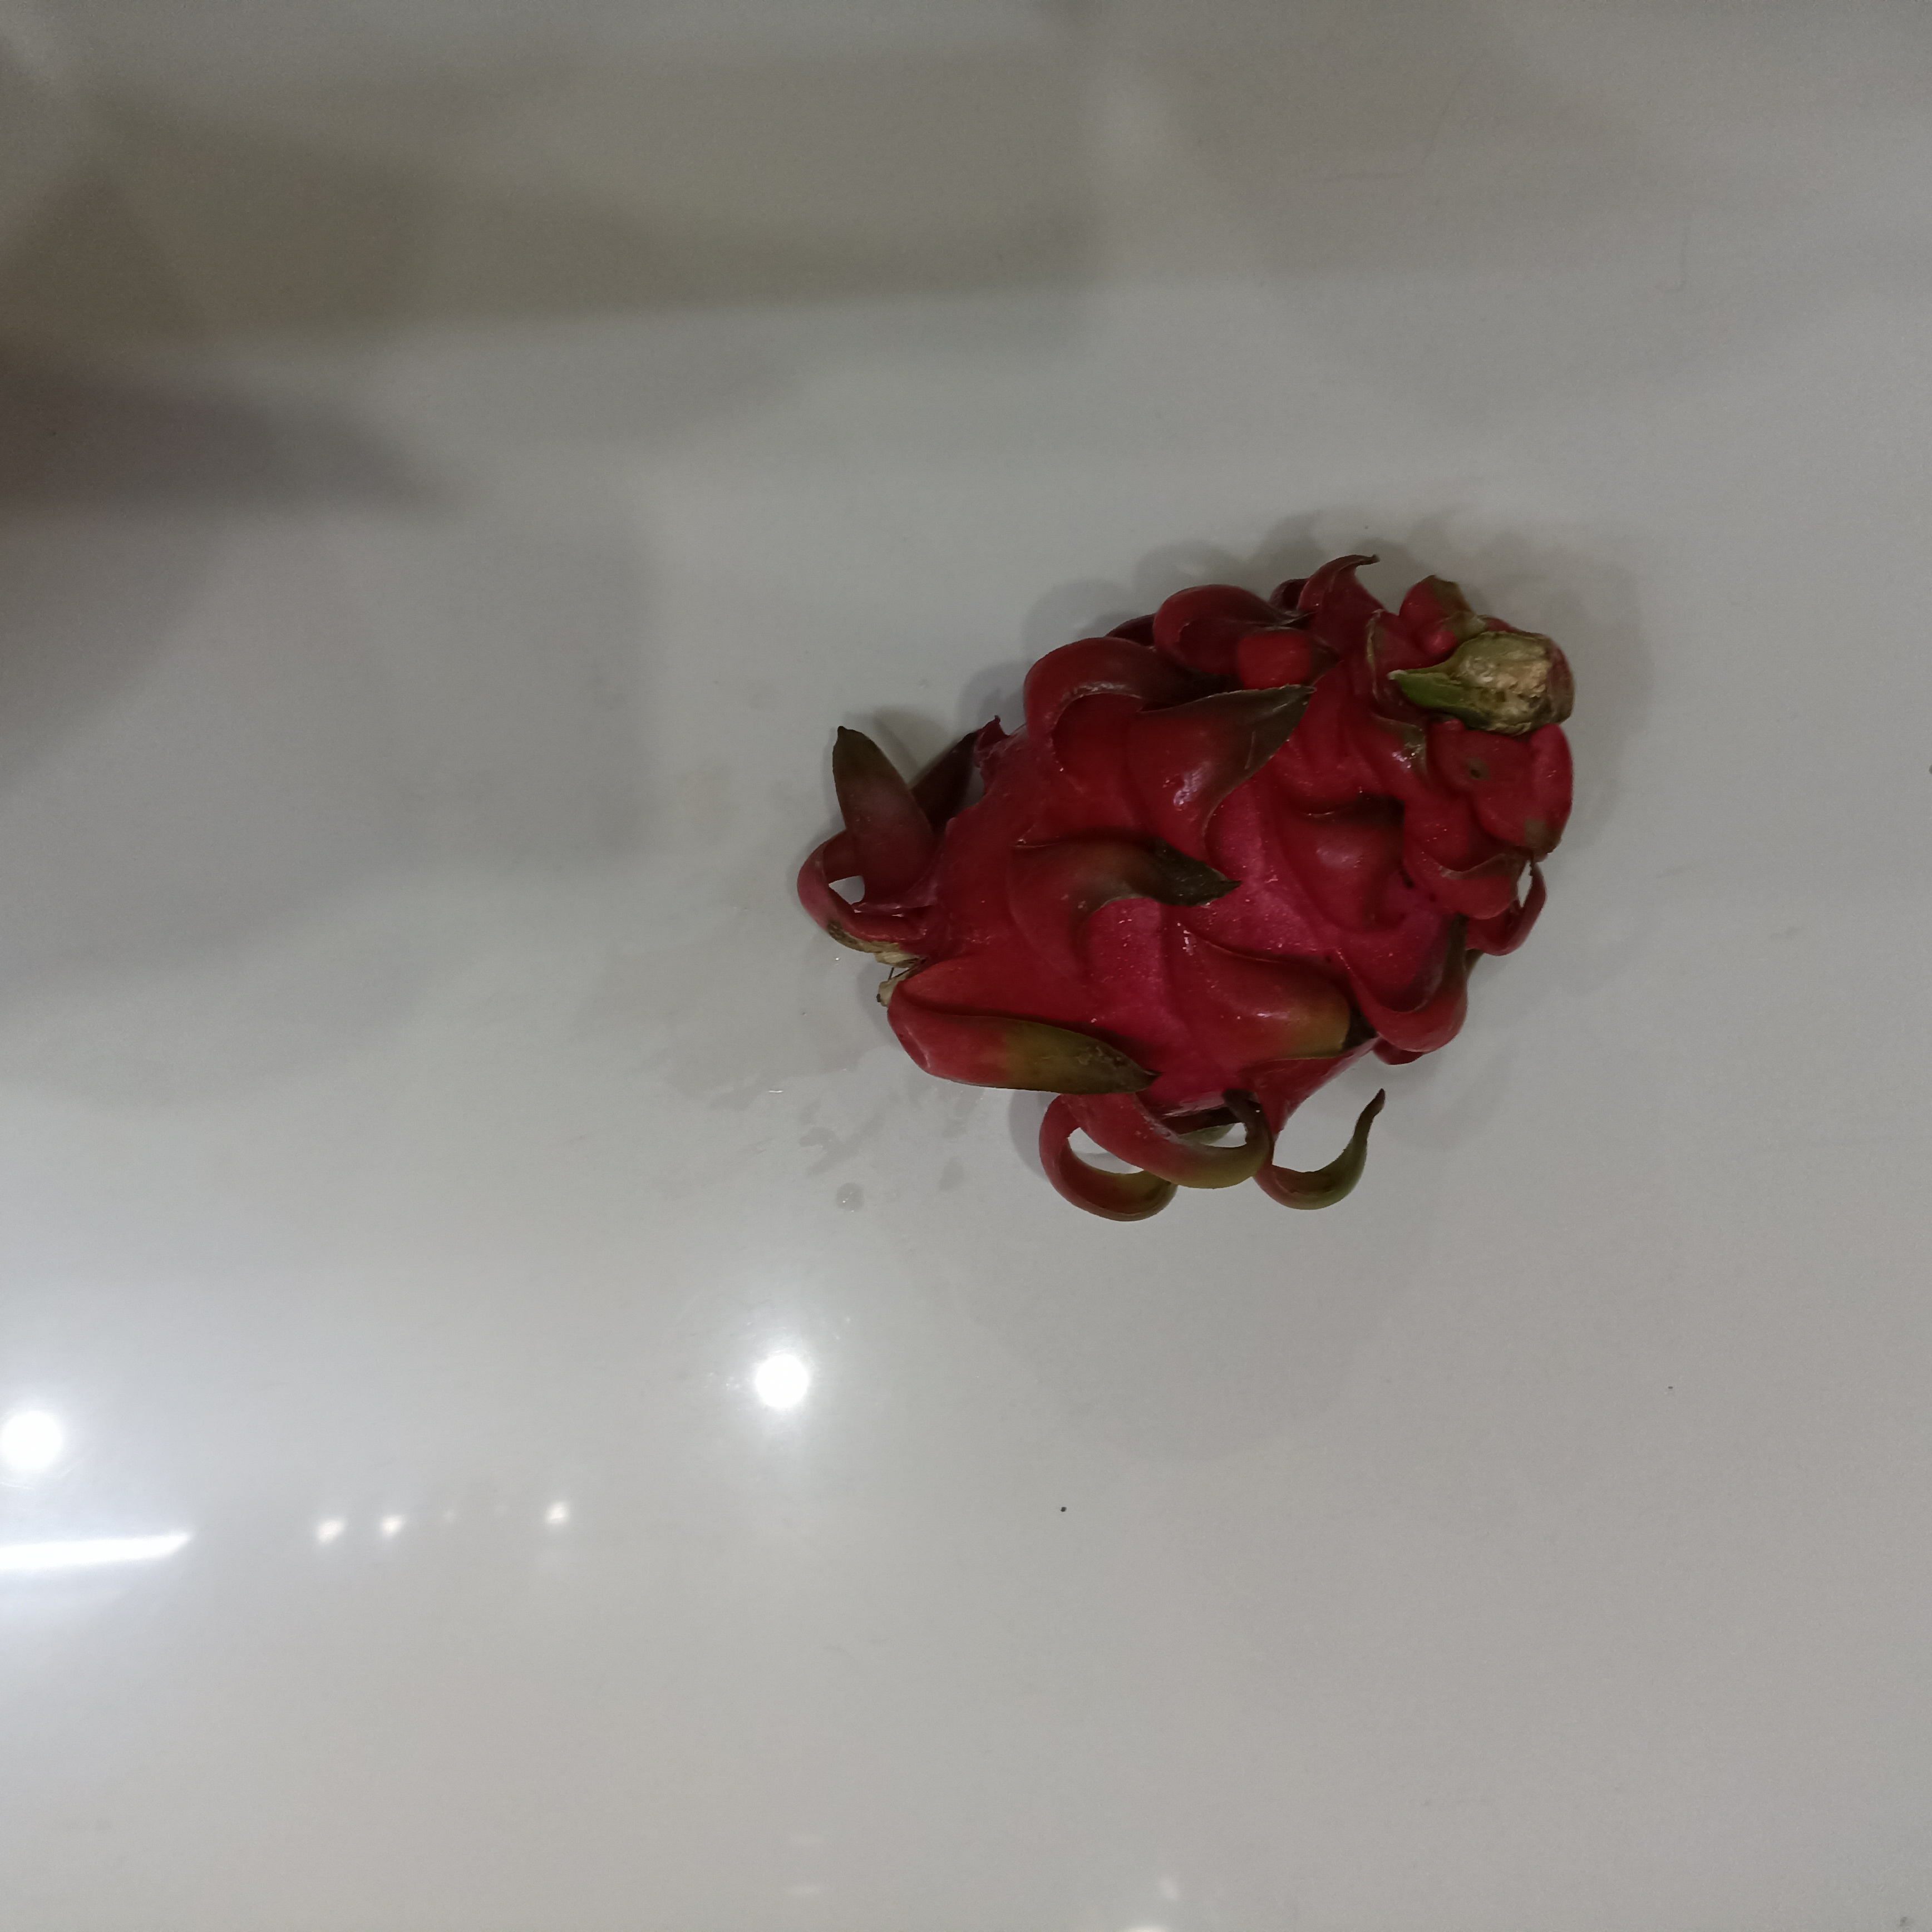Thanh long: (830, 598, 1580, 1093)
